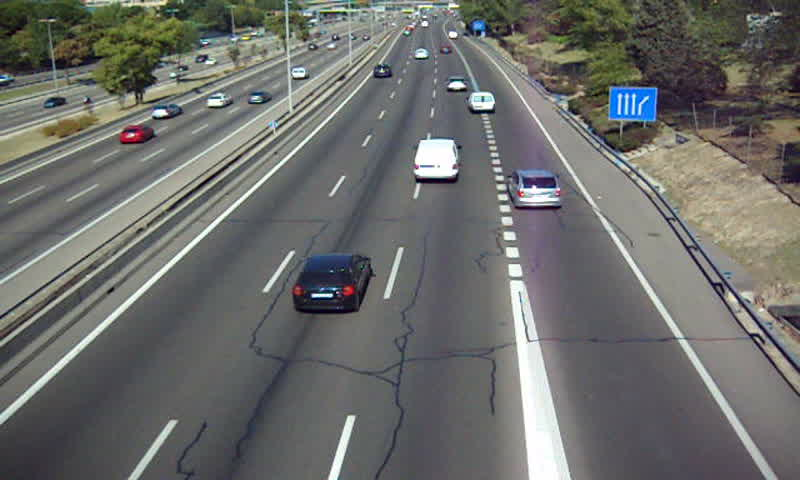car: (291, 250, 370, 313), (506, 168, 561, 207), (446, 76, 468, 94), (373, 63, 392, 79), (411, 46, 430, 58)
van: (414, 139, 459, 183), (467, 91, 494, 112)
